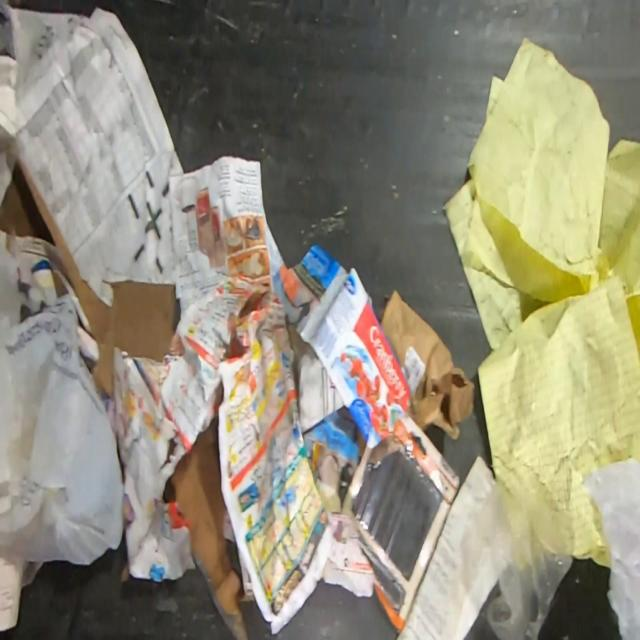cardboard: (0, 159, 176, 399), (340, 415, 460, 634), (168, 417, 256, 614), (378, 289, 476, 440)
soft_plastic: (0, 230, 124, 566), (460, 467, 574, 640), (584, 456, 640, 640)
